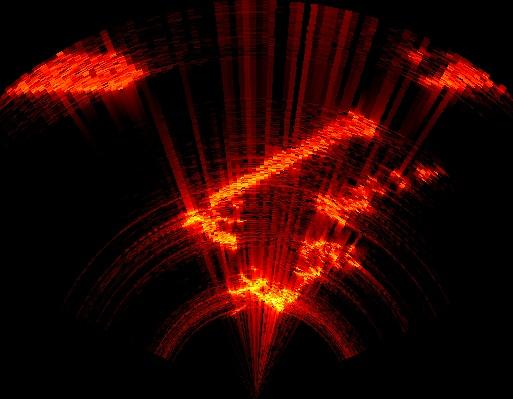shipwreck: (184, 112, 375, 248), (229, 239, 360, 311), (315, 183, 375, 226)
